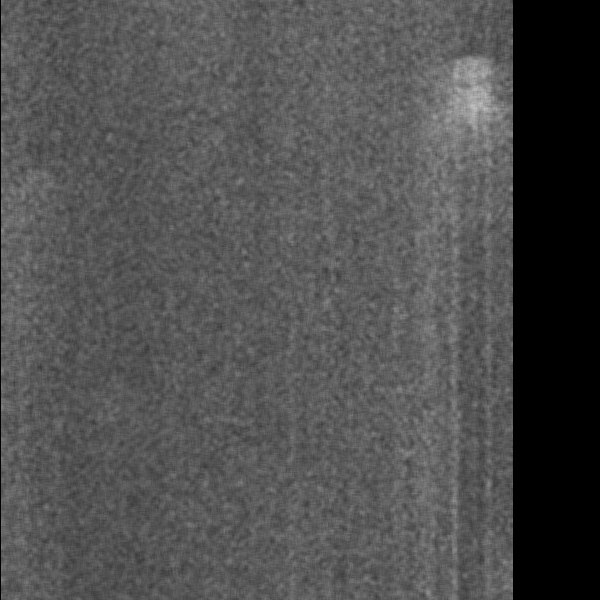spark: (446, 44, 504, 226)
